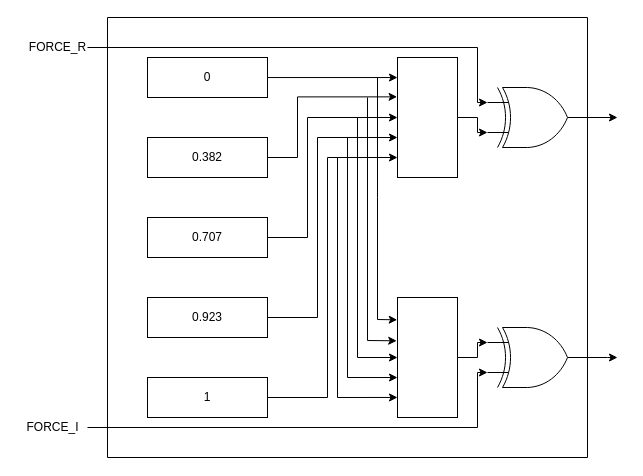
This 643x476 diagram has some shape labels left out. Here are the shapes that lost their labels. From the top down, the centre of each, then its label:
At point 427,117: "MUX_R".
At point 427,357: "MUX_I".
